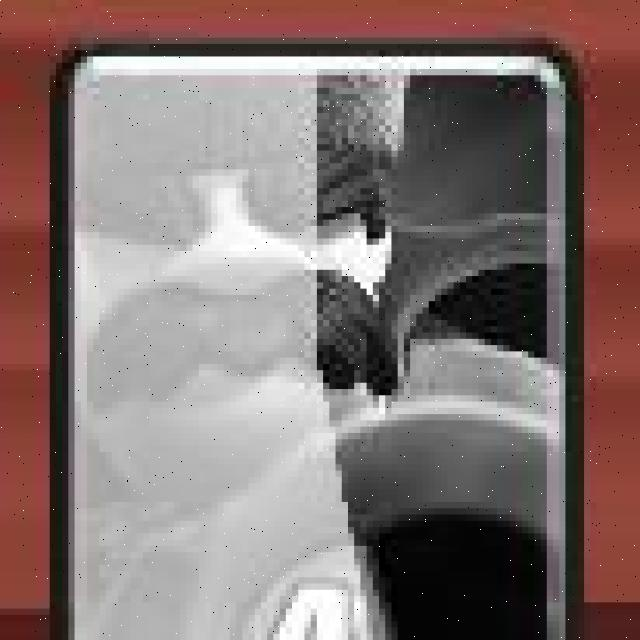Hunter: (48, 42, 572, 640)
